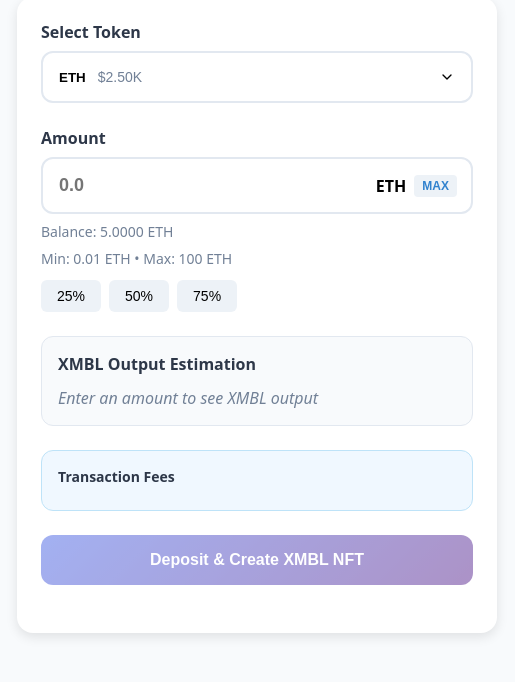
it: DepositForm › should validate amount input
# Test invalid amount
Type "invalid" into the field with test id "amount-input" at (257, 186), box top-left (41, 157), bottom-right (473, 214)
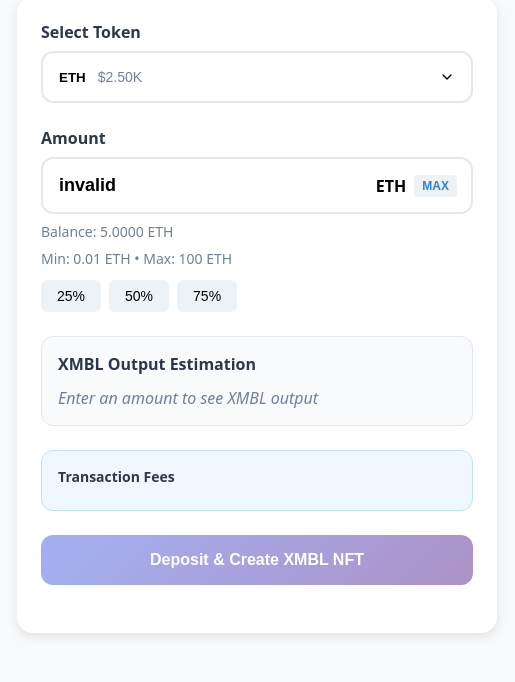
Leave the field with test id "amount-input", box top-left (41, 157), bottom-right (473, 214)
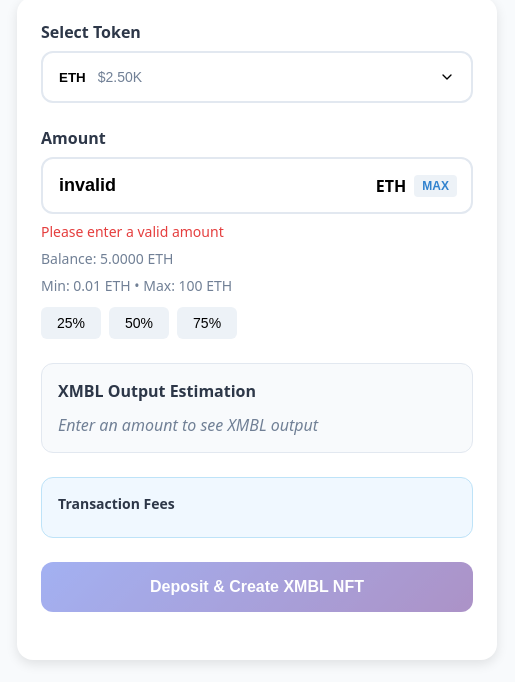
Expected: the message with test id "validation-error" reads "Please enter a valid amount", top-left (41, 222), bottom-right (224, 241)
